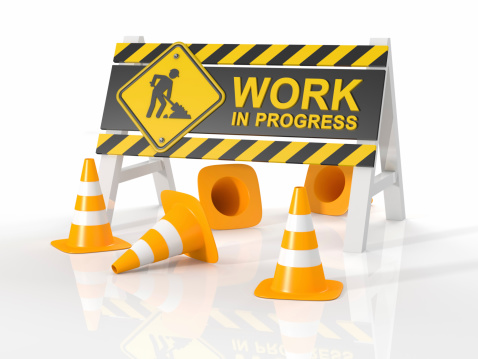trafficcone: (253, 186, 344, 301), (112, 188, 219, 276), (50, 158, 132, 254), (197, 164, 263, 230), (305, 164, 373, 216)
